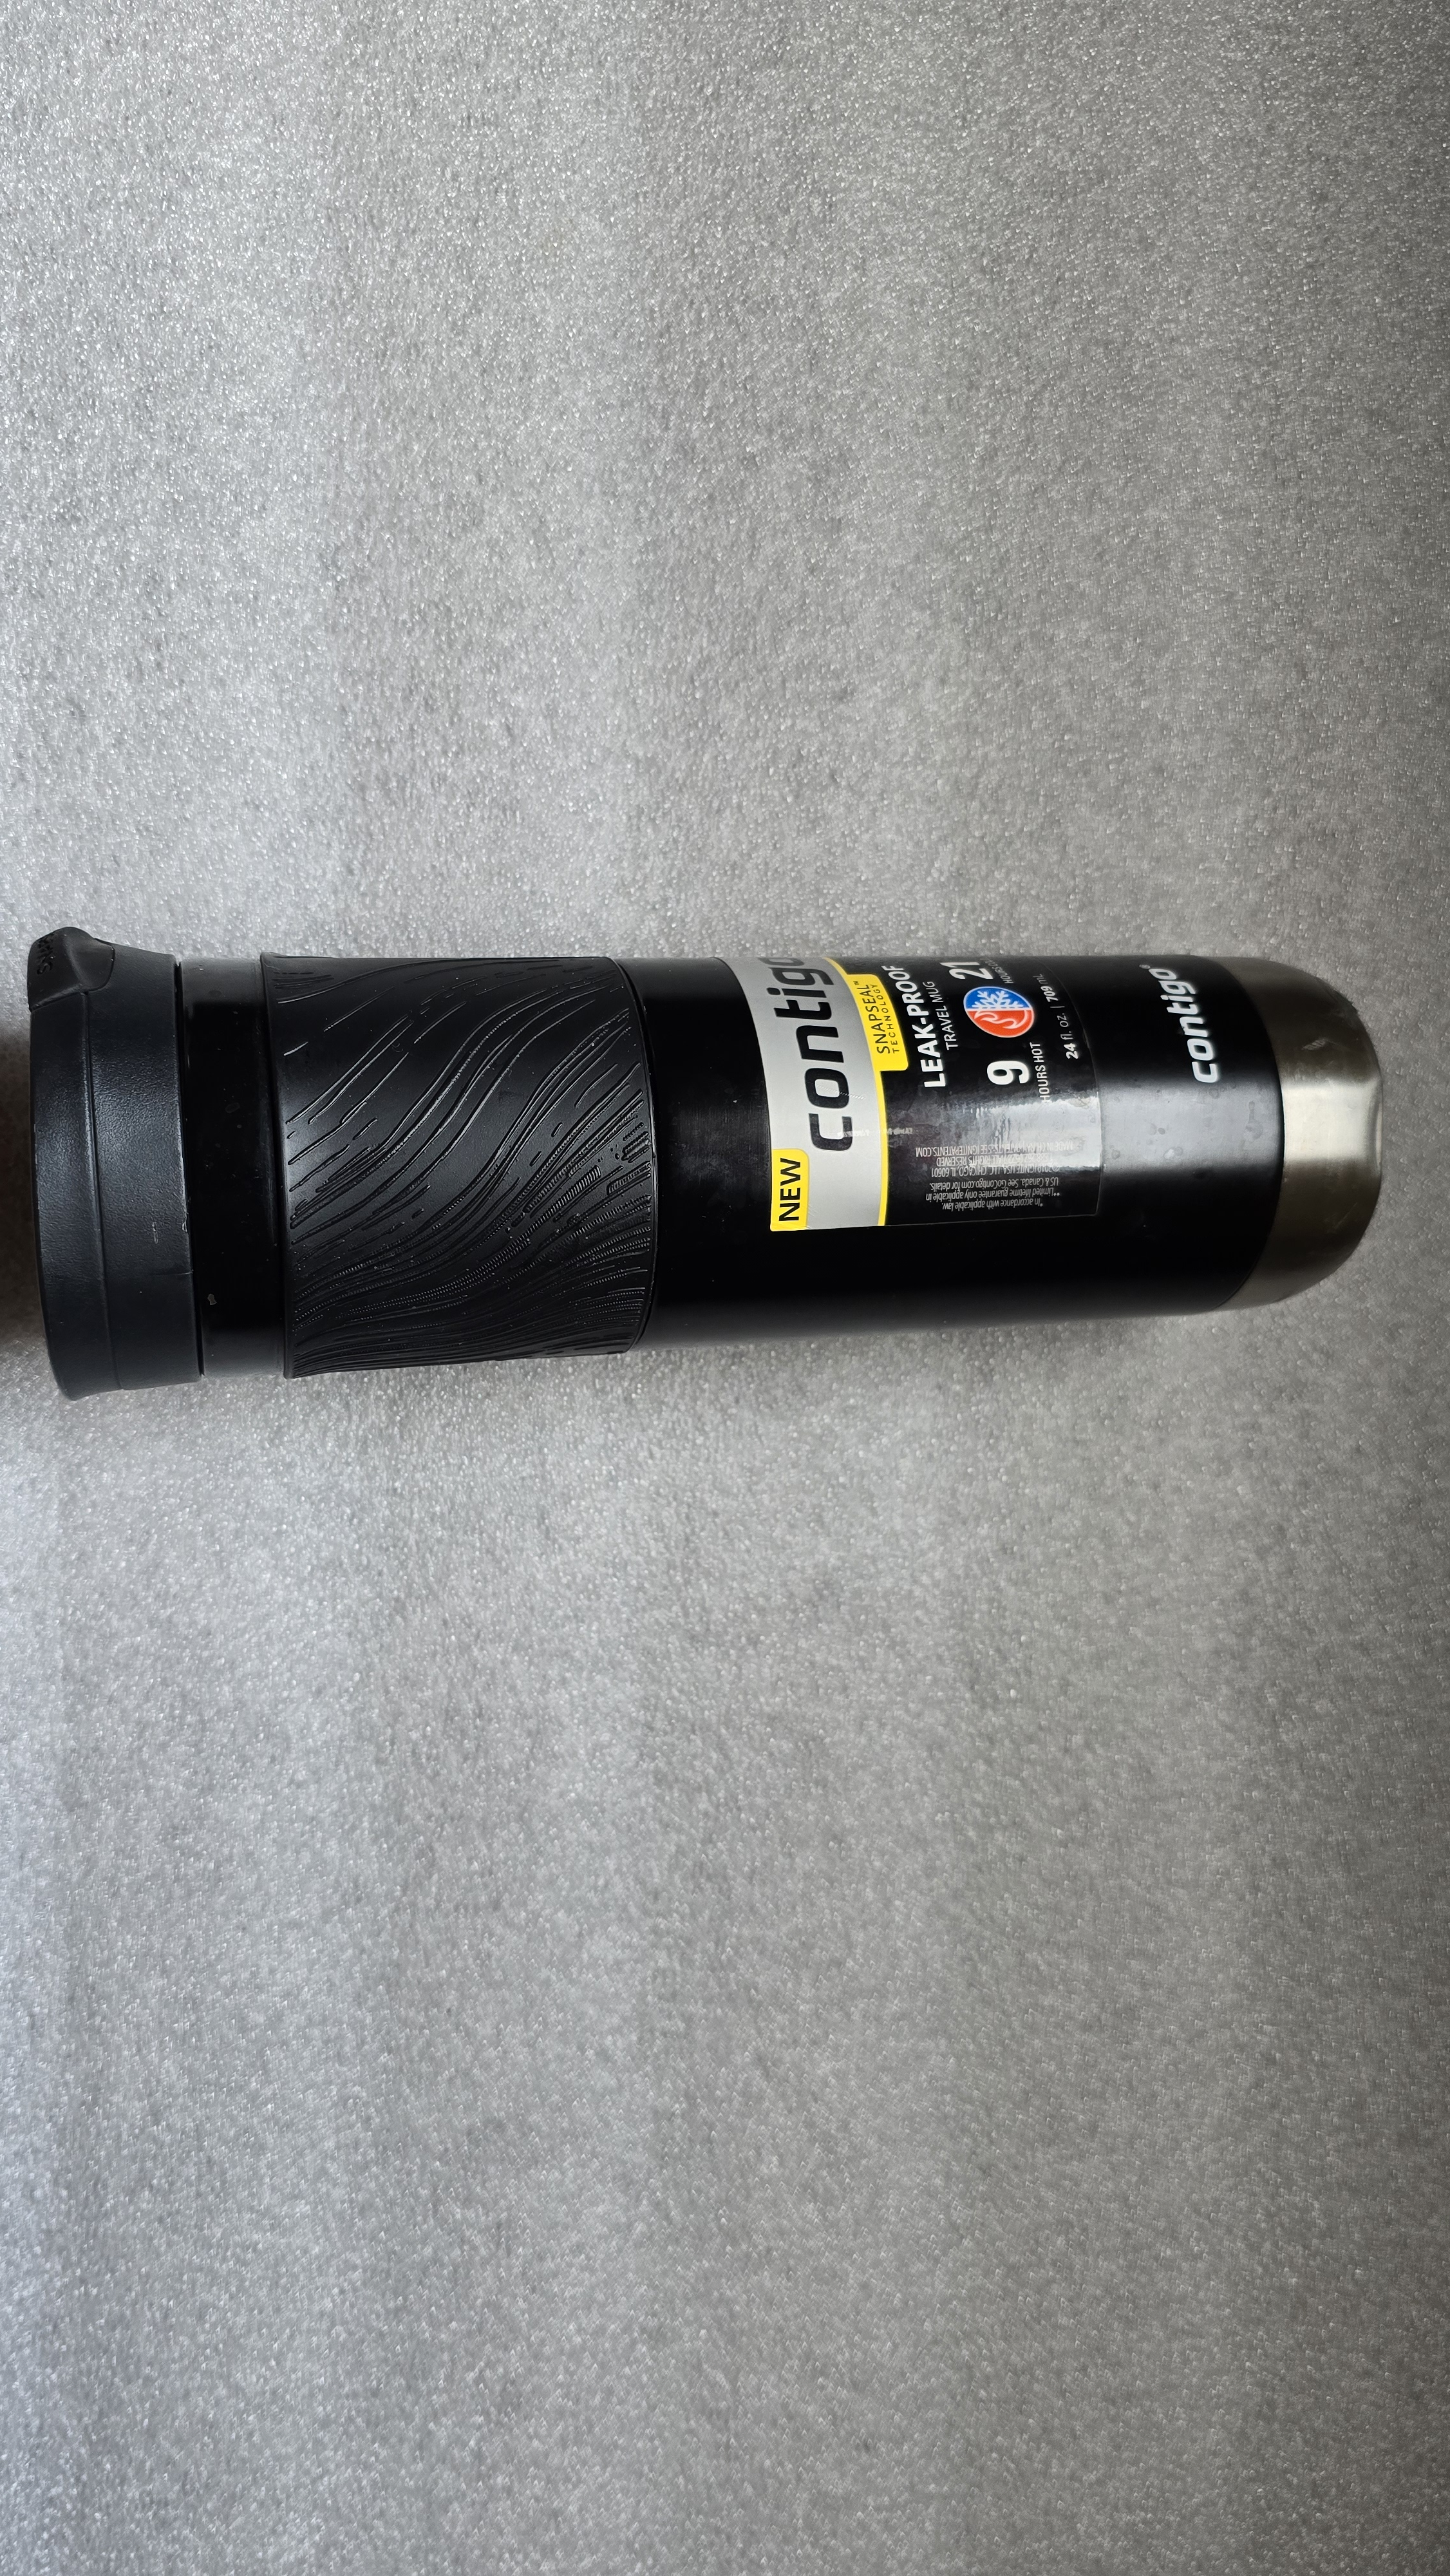bottle: (18, 849, 1450, 1422)
